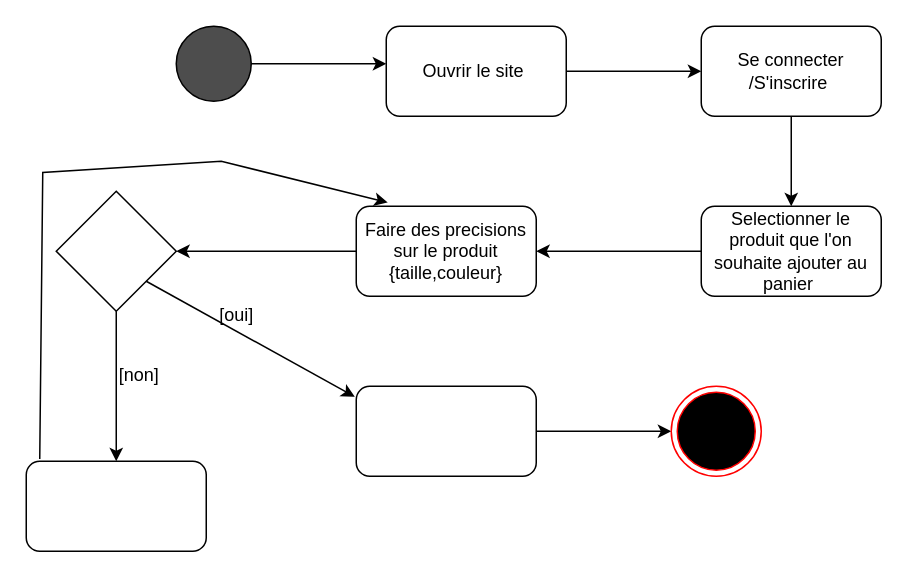
Some shapes in this 908 by 578 pixel diagram are drawn without their labels. The shapes that lost their labels are listed below. From the top down, each one's centre as x and y in pixels, then its label:
At point (445, 430): "Afficher message de confirmation".
At point (115, 505): "Afficher message d'indisponibilite".
